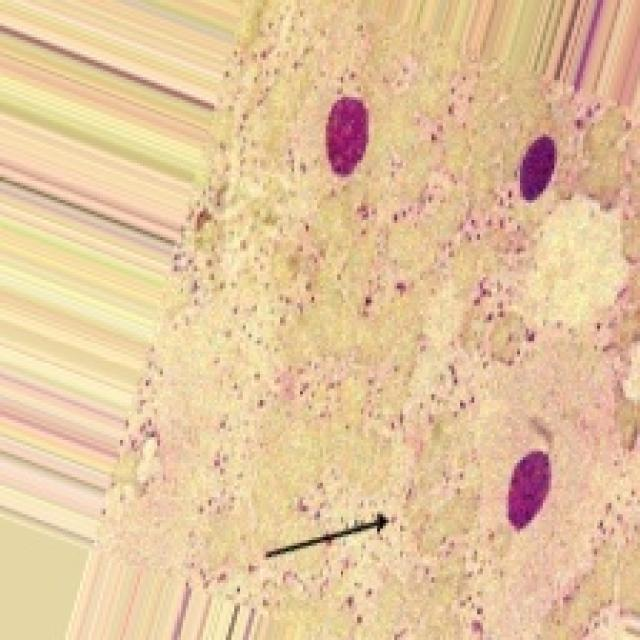Spherical_bacteria: (89, 0, 637, 637)
